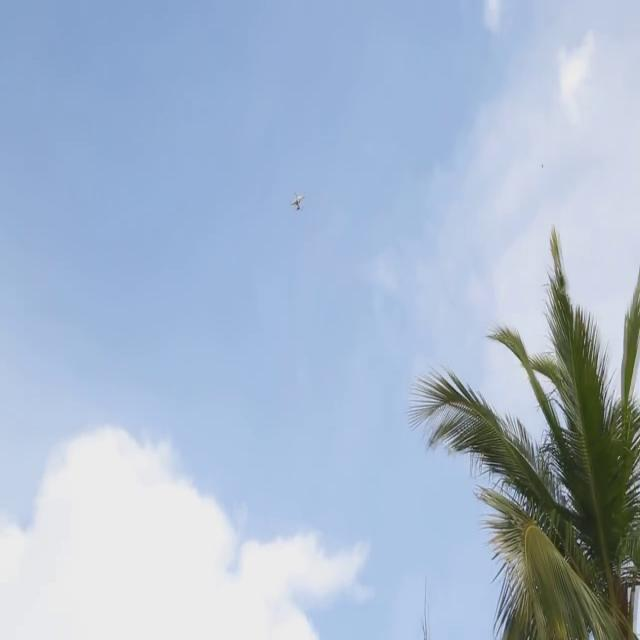drone: (290, 182, 308, 216)
